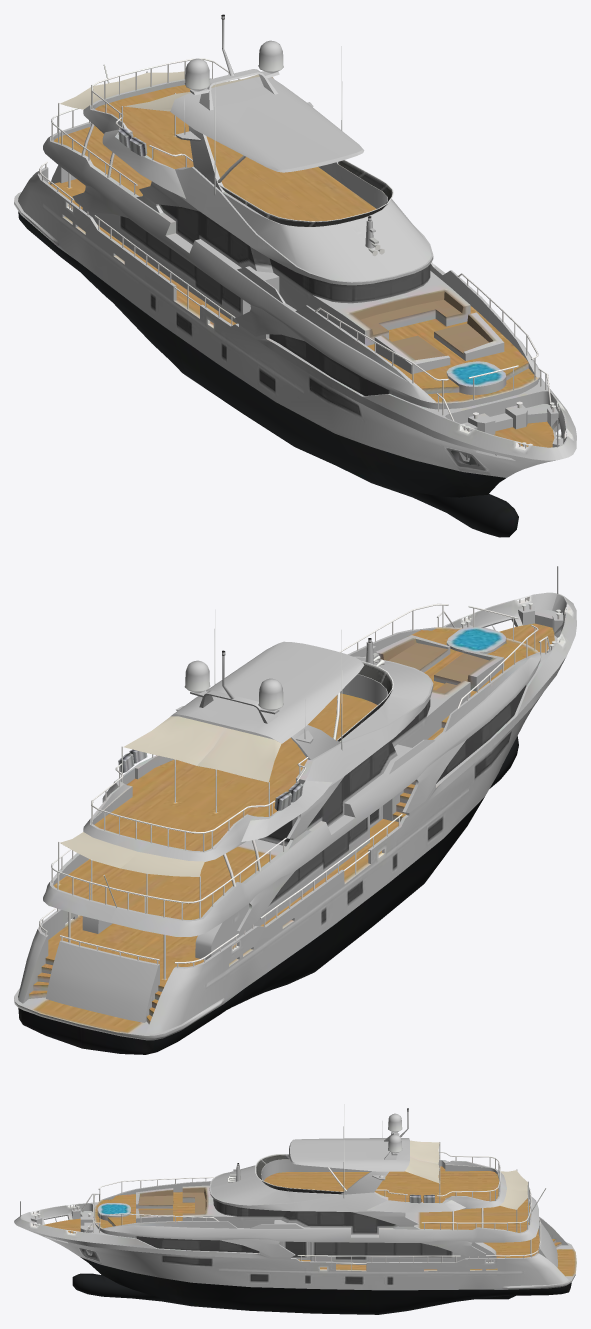
Rendered from superyacht.glb.
3 views of the same model, one above another, from view 1: azimuth 30°, elevation 25°; view 2: azimuth 150°, elevation 25°; view 3: azimuth 270°, elevation 25° (orthographic). The views are drawn at different scales.
Visible parts, largest first — view 1: korpus1; view 2: korpus1; view 3: korpus1.
Boxes of the visible parts, box(x1,y1,x2,y2) form: korpus1: box(14, 14, 576, 537); korpus1: box(14, 566, 576, 1054); korpus1: box(14, 1104, 576, 1314).
Size of the model in its own units: 8.21 by 15.65 by 40.33.
1 material, 1 textured.
